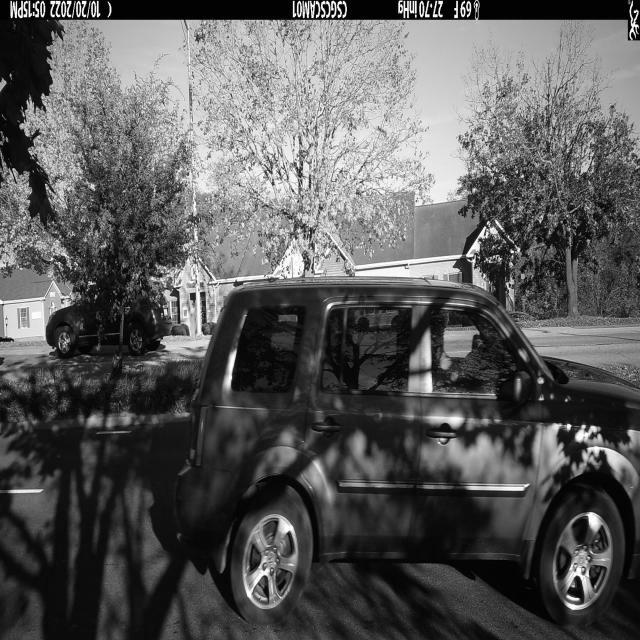SUV: (174, 278, 640, 628)
